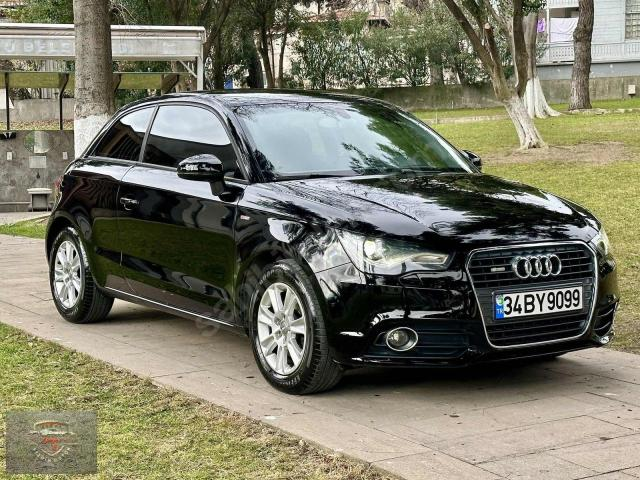plaka: (495, 283, 583, 318)
